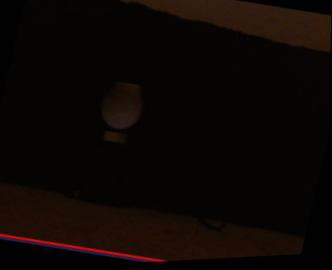Fan: (97, 79, 150, 139)
